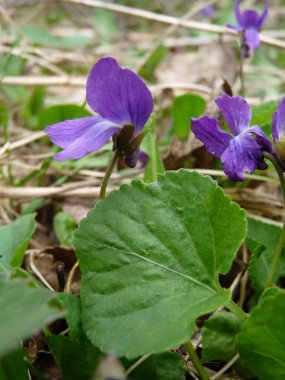violet: (53, 53, 166, 185), (195, 79, 274, 194)
